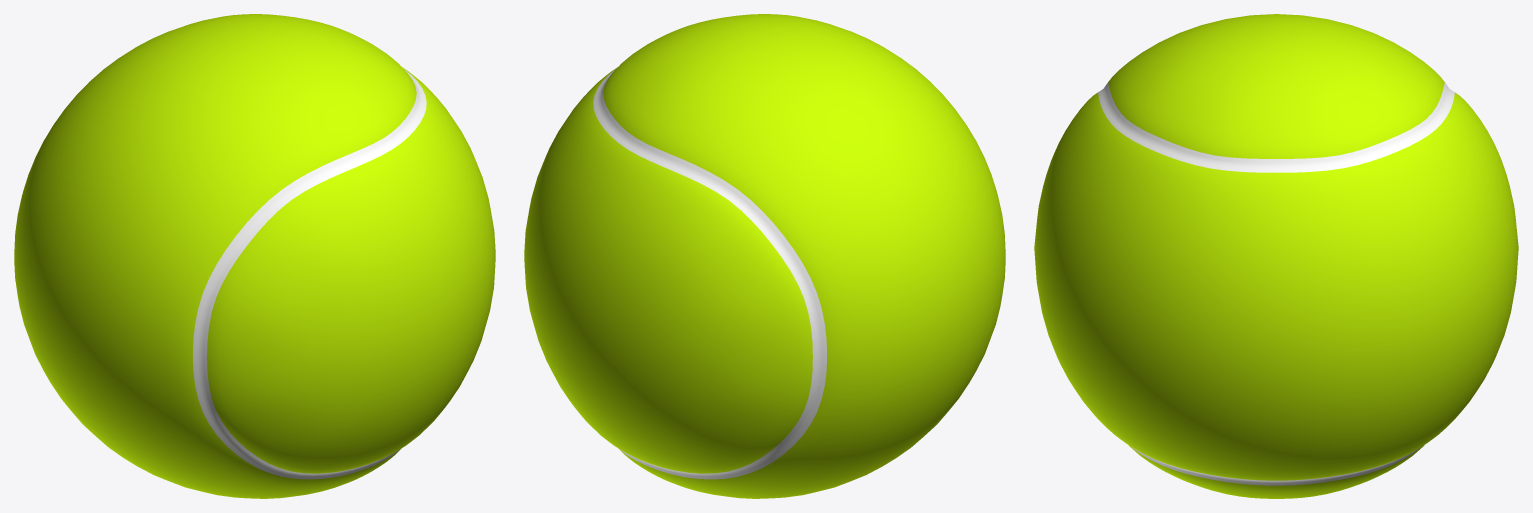
File: tennis_fluorescent_yellow.dae
The picture shows the model from 3 angles, left to right: view 1: azimuth 30°, elevation 25°; view 2: azimuth 150°, elevation 25°; view 3: azimuth 270°, elevation 25°; orthographic projection.
Visible parts, largest first — view 1: SketchUp (×3); view 2: SketchUp (×3); view 3: SketchUp (×3).
Part boxes in pixels (x1=…): SketchUp (×3): x1=14, y1=14, x2=495, y2=498; SketchUp (×3): x1=524, y1=14, x2=1005, y2=498; SketchUp (×3): x1=1034, y1=14, x2=1518, y2=498.
Size of the model in its own units: 2.5 by 2.51 by 2.51.
